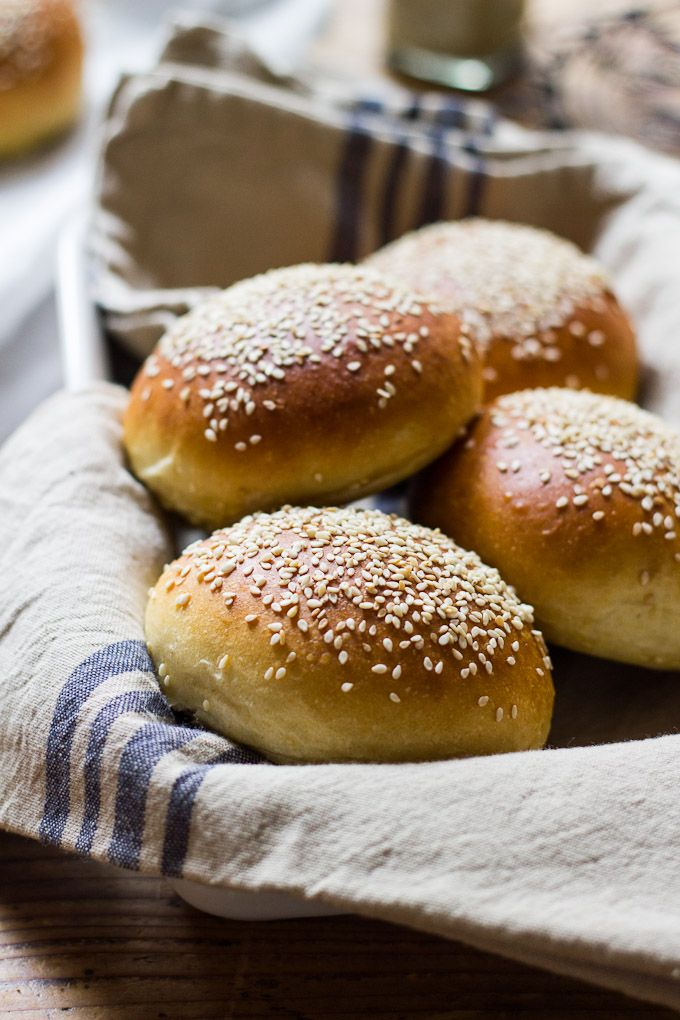hamburger_buns: (118, 247, 523, 521), (186, 484, 549, 761)
